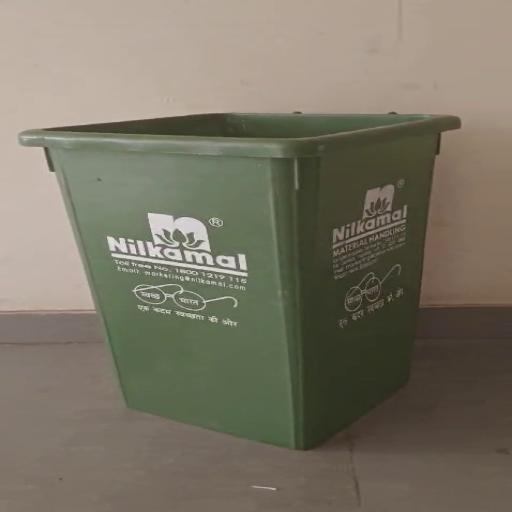Nilkamal-dustbin-detection: (21, 113, 458, 448)
